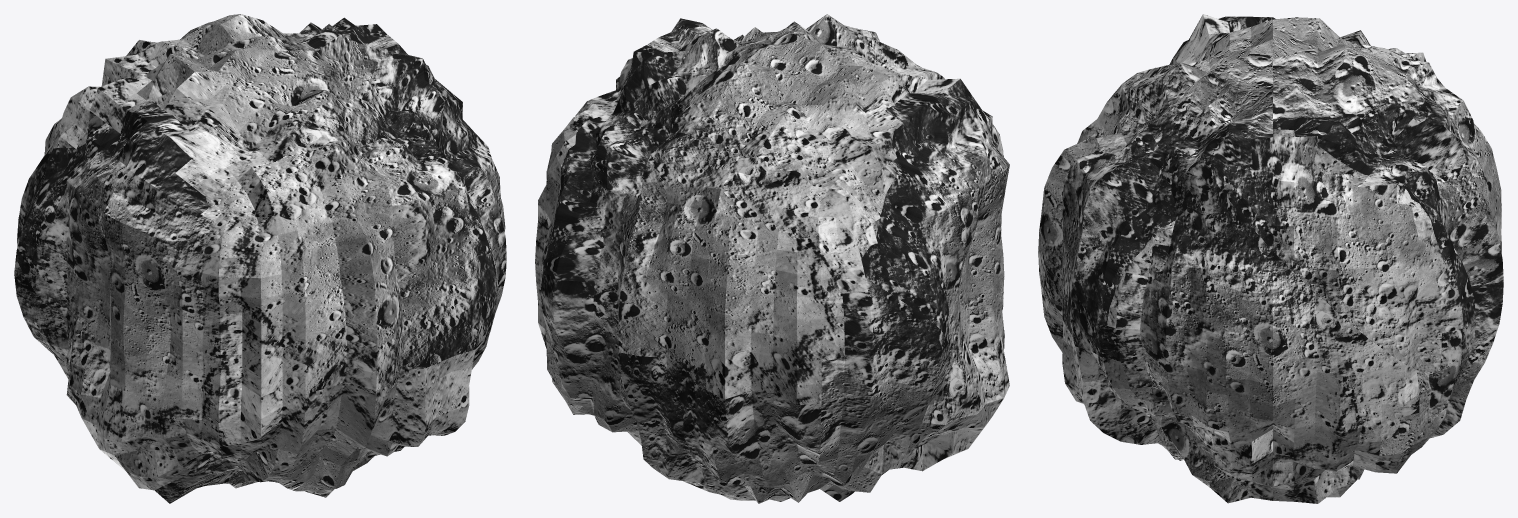
File: asteroid79.obj
The picture shows the model from 3 angles, left to right: view 1: azimuth 30°, elevation 25°; view 2: azimuth 150°, elevation 25°; view 3: azimuth 270°, elevation 25°; orthographic projection. The views are drawn at different scales.
Visible parts, largest first — view 1: Cube_Cube.002; view 2: Cube_Cube.002; view 3: Cube_Cube.002.
Part boxes in pixels (x1=…): Cube_Cube.002: x1=14, y1=14, x2=506, y2=503; Cube_Cube.002: x1=535, y1=14, x2=1009, y2=503; Cube_Cube.002: x1=1038, y1=14, x2=1503, y2=503.
Bounding box in the file's own units: 1.81 × 1.77 × 1.75.
